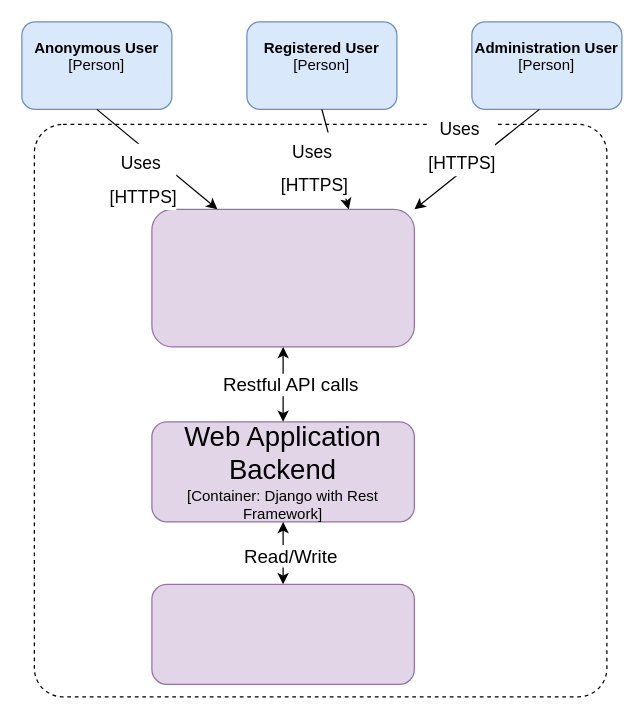
Some shapes in this 644 by 719 pixel diagram are drawn without their labels. The shapes that lost their labels are listed below. From the top down, each one's centre as x and y in pixels, then its label:
At (x=282, y=277): "Web Application Frontend [Container: Ember] All user-interactions".
At (x=282, y=633): "Relational Database [Container: Postgres (future)]".
